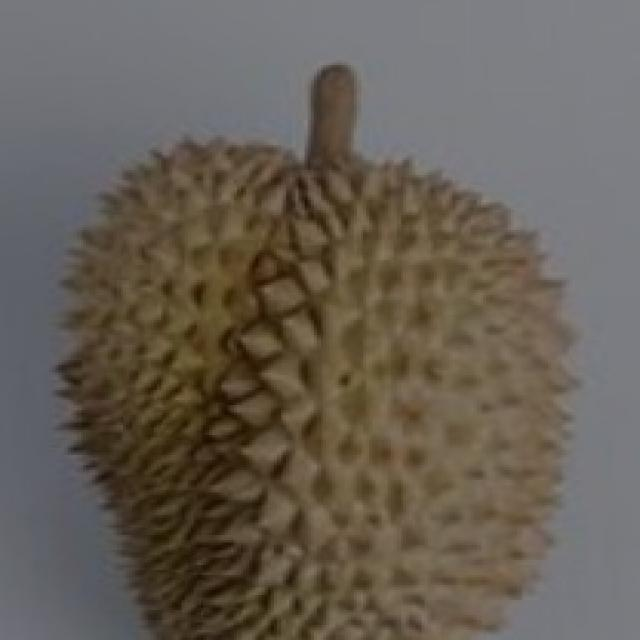fruit: (15, 265, 394, 640)
